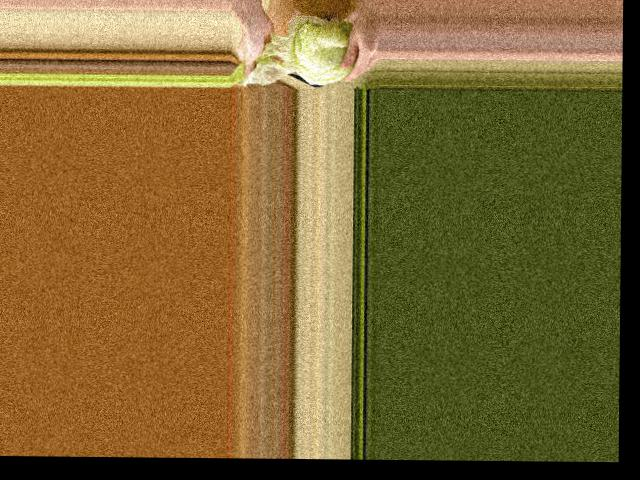lettuce: (271, 10, 359, 88)
